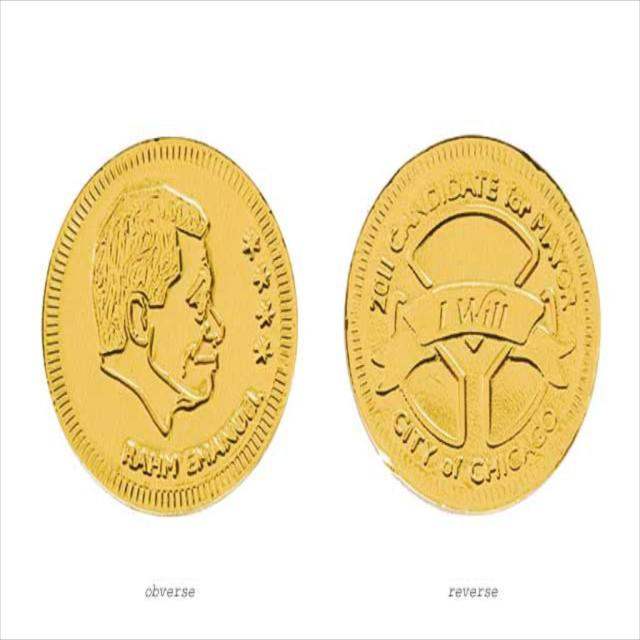Coin: (38, 126, 298, 514), (343, 131, 602, 515)
